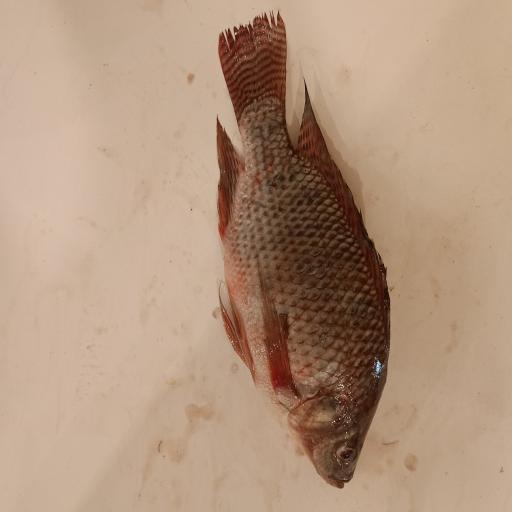Tilapia: (216, 10, 392, 489)
